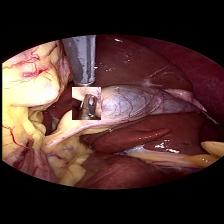Grasper: (71, 87, 100, 120)
